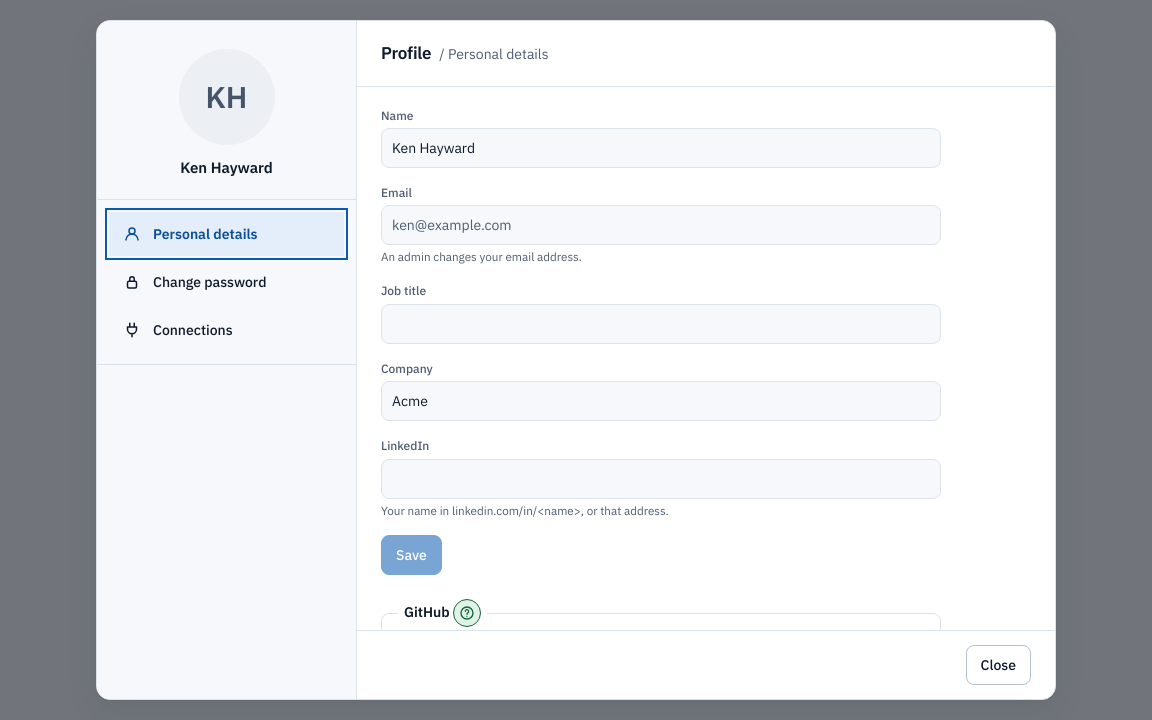
Test: Personal details › saves the details on its own Save; email is read-only
Expected: the field labelled "Company" holds "Acme", [381,381,941,421]
Expected: the field labelled "Email" holds "ken@example.com", [381,205,941,245]
Replace the text in the field labelled "Name" with "Ken H" at x=661, y=148, box [381,128,941,168]
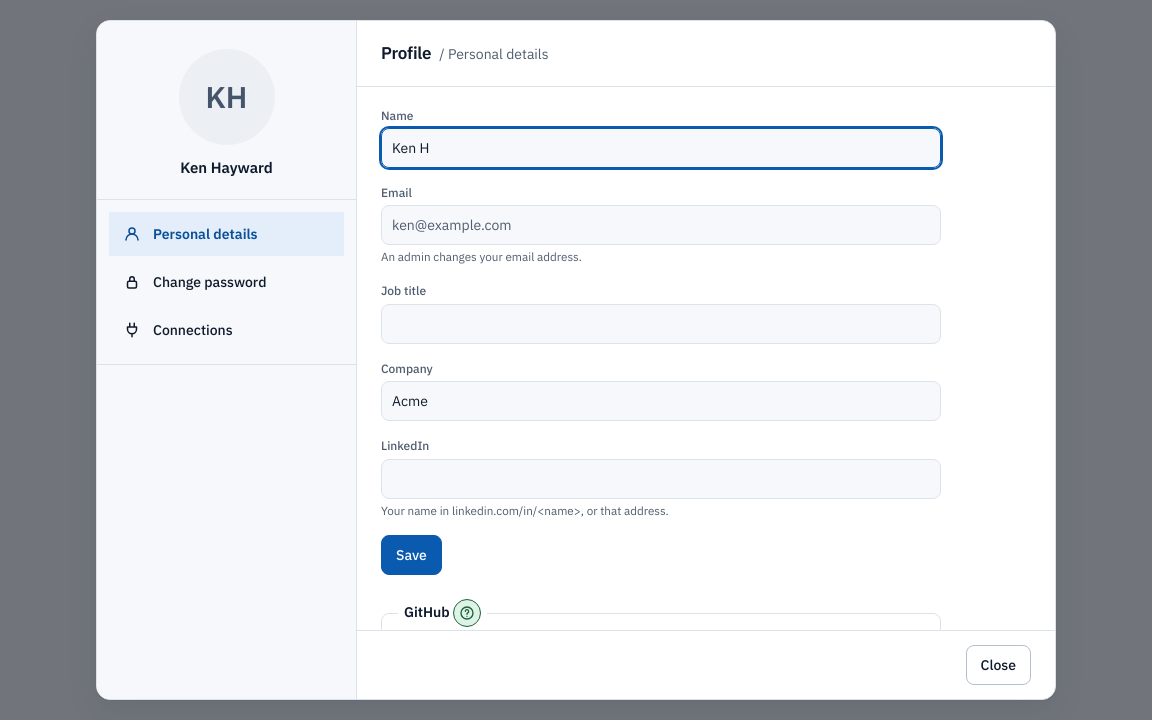
Type "Engineer" into the field labelled "Job title" at x=661, y=324, box [381,304,941,344]
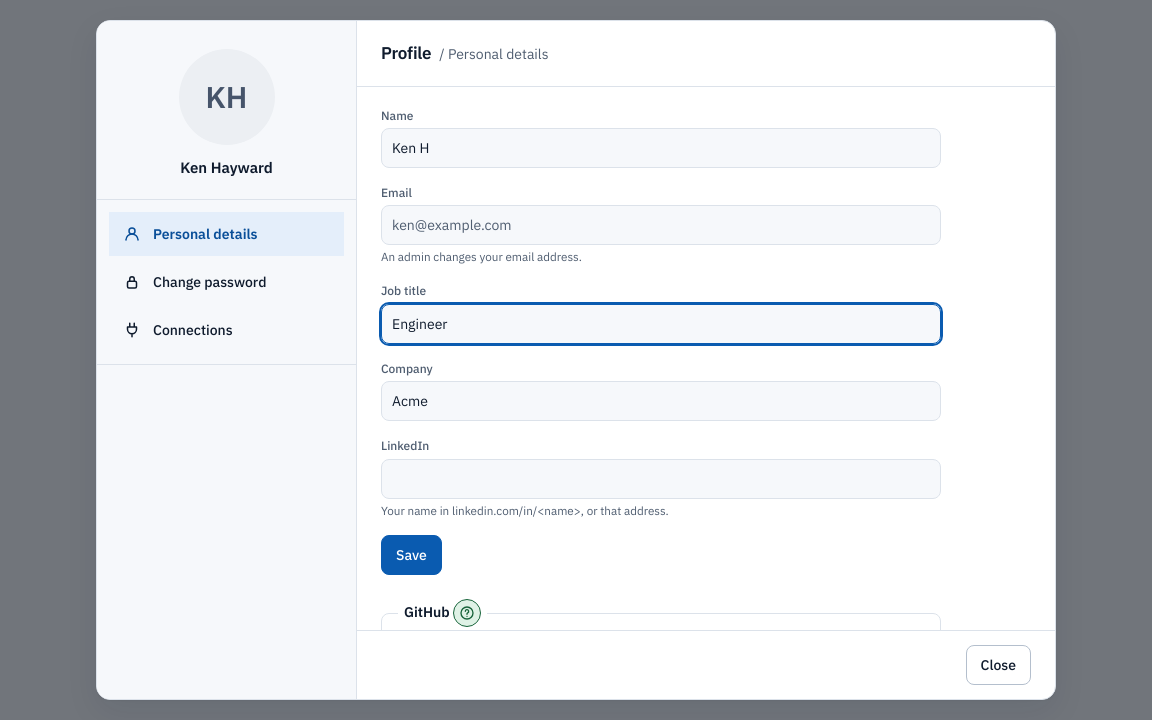
Type "ken-hayward" into the field labelled "LinkedIn" at x=661, y=478, box [381,458,941,498]
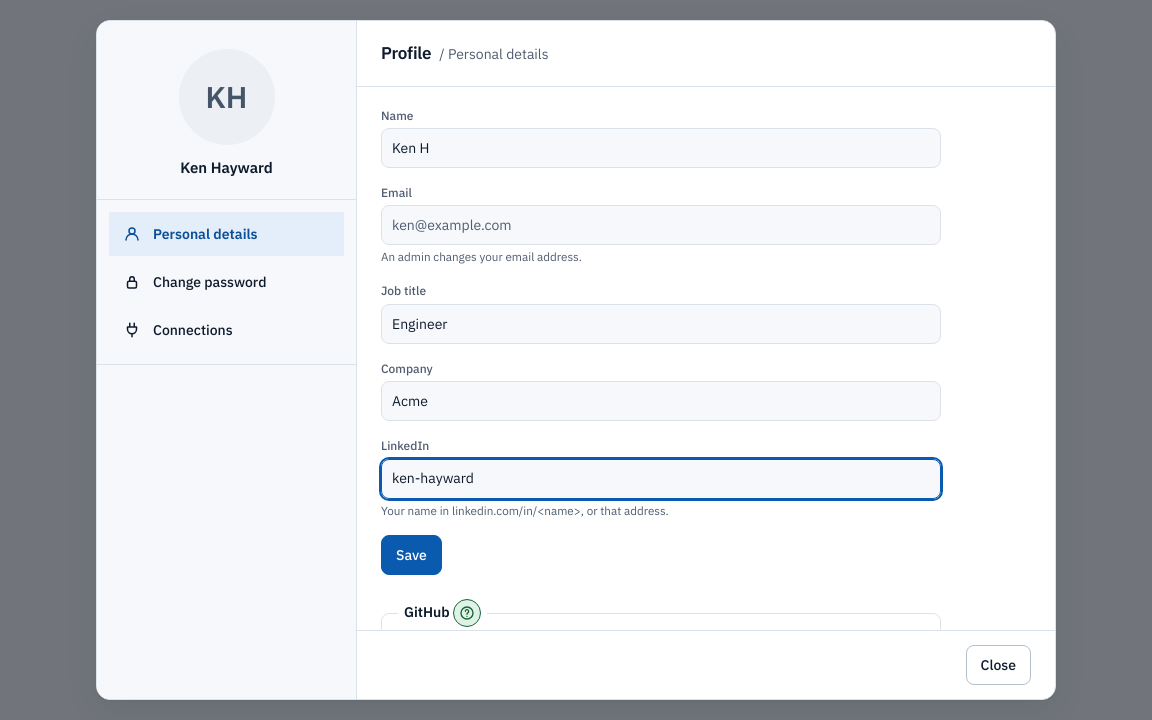
Click the button "Save" at x=411, y=555, box [381,535,442,575]
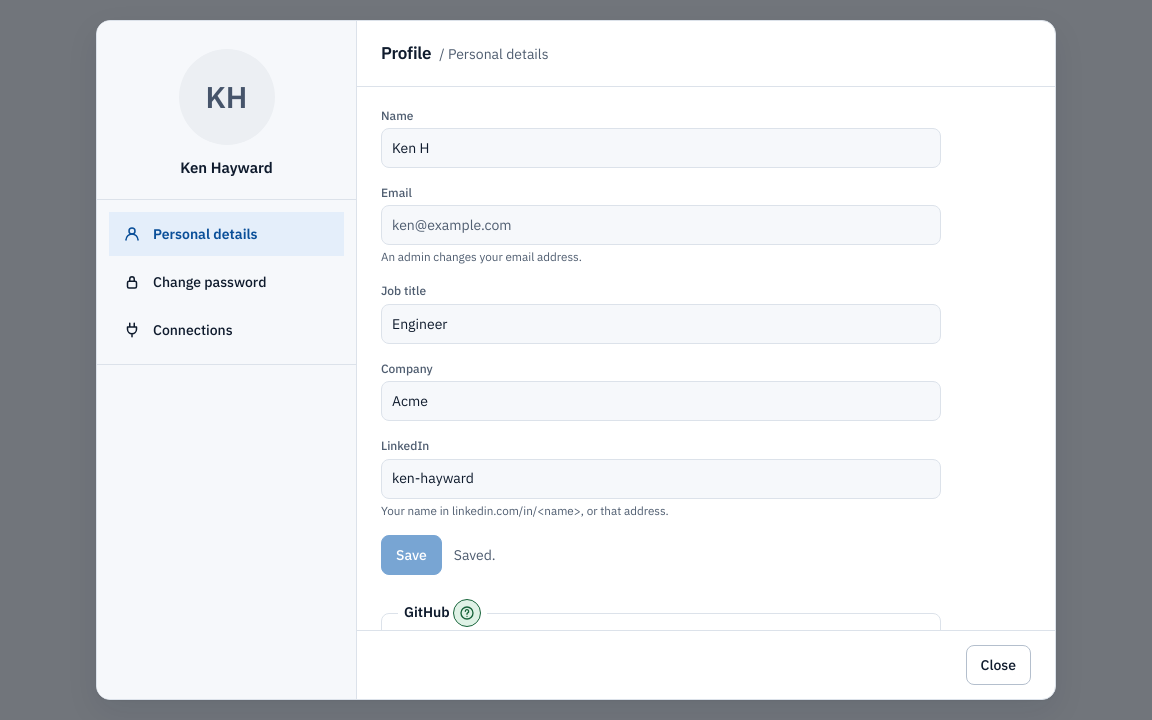
Expected: the message reads "Saved.", [454,546,496,564]
Expected: the button "Save" is disabled, [381,535,442,575]
